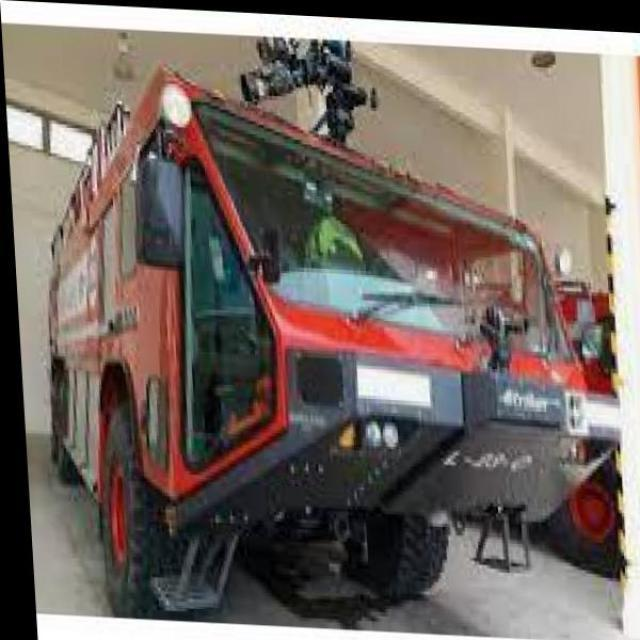emergency: (44, 63, 618, 621)
